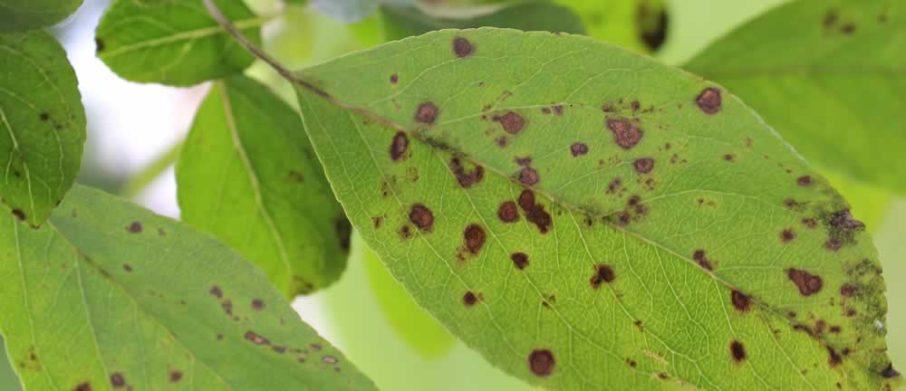Apple Scab Leaf: (297, 33, 906, 390)
